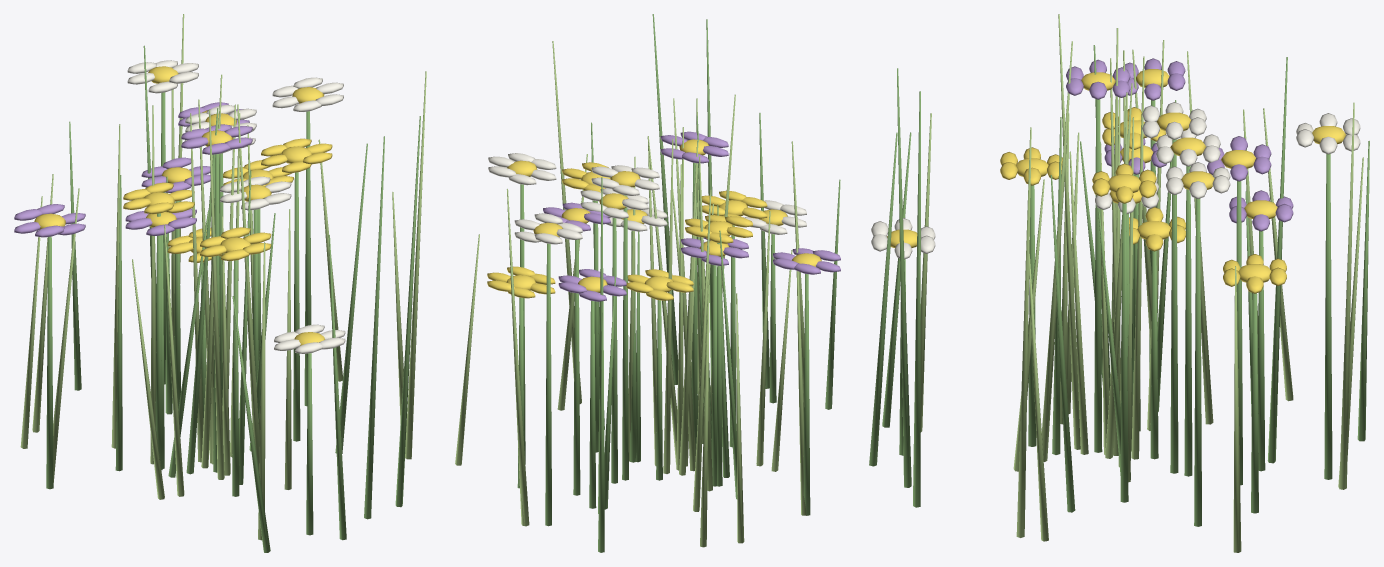
File: wildflower_patch_c.glb
The picture shows the model from 3 angles, left to right: view 1: azimuth 30°, elevation 25°; view 2: azimuth 150°, elevation 25°; view 3: azimuth 270°, elevation 25°; orthographic projection. The views are drawn at different scales.
Parts seen in each view (by area): view 1: blade_6, blade_24, blade_31, blade_32, blade_15, flower_5_stem, flower_4_stem, blade_7, blade_27, blade_9, flower_1_stem, blade_3 (+34 smaller); view 2: flower_15_stem, flower_0_stem, blade_14, blade_25, flower_2_stem, blade_29, flower_5_stem, flower_6_stem, blade_6, blade_19, blade_34, flower_11_stem (+37 smaller); view 3: blade_31, flower_12_stem, blade_24, flower_15_stem, flower_8_stem, blade_6, blade_32, flower_0_stem, flower_4_stem, flower_6_stem, blade_4, blade_25 (+33 smaller).
Part boxes in pixels (box(x1,y1,x2,y2)): blade_6: box(395, 116, 420, 507); blade_24: box(364, 136, 384, 519); blade_31: box(405, 71, 426, 459); blade_32: box(209, 109, 224, 479); blade_15: box(186, 108, 218, 474); flower_5_stem: box(46, 236, 53, 489); flower_4_stem: box(293, 172, 300, 441); blade_7: box(237, 104, 259, 470); blade_27: box(328, 235, 346, 540); blade_9: box(115, 175, 122, 471); flower_1_stem: box(232, 260, 239, 496); blade_3: box(335, 143, 367, 453); flower_15_stem: box(545, 243, 551, 526); flower_0_stem: box(622, 195, 628, 480); blade_14: box(693, 189, 711, 511); blade_25: box(663, 138, 673, 473); flower_2_stem: box(573, 239, 580, 495); blade_29: box(679, 139, 698, 475); flower_5_stem: box(803, 273, 810, 515); flower_6_stem: box(611, 218, 617, 483); blade_6: box(652, 14, 678, 384); blade_19: box(509, 243, 529, 526); blade_34: box(700, 285, 709, 547); flower_11_stem: box(589, 300, 596, 508); blade_31: box(1016, 127, 1031, 537); flower_12_stem: box(1194, 198, 1201, 526); blade_24: box(897, 68, 911, 487); flower_15_stem: box(1324, 154, 1332, 479); flower_8_stem: box(1094, 99, 1102, 452); blade_6: box(913, 91, 920, 507); blade_32: box(1058, 14, 1080, 449); flower_0_stem: box(1170, 139, 1178, 473); flower_4_stem: box(1120, 203, 1128, 502); flower_6_stem: box(1184, 166, 1192, 476); blade_4: box(1339, 102, 1354, 489); blade_25: box(1131, 56, 1144, 459).
Size of the model in its own units: 0.613 by 0.6187 by 0.6521.
